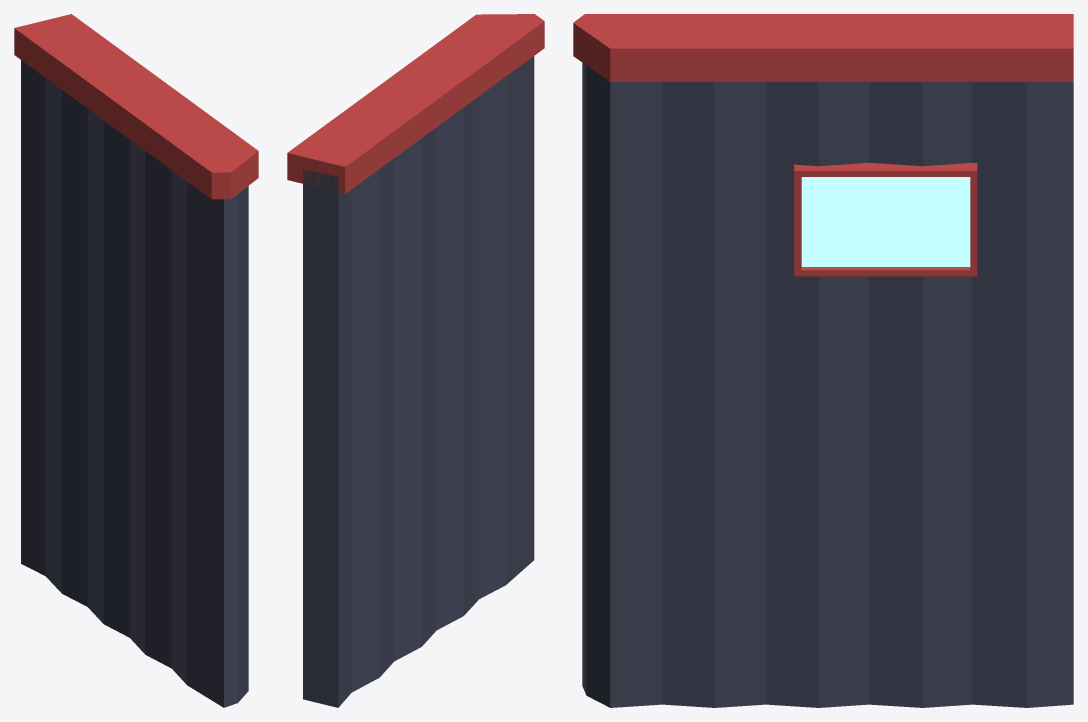
Rendered from small_wall_corner_left.fbx.
The picture shows the model from 3 angles, left to right: view 1: azimuth 30°, elevation 25°; view 2: azimuth 150°, elevation 25°; view 3: azimuth 270°, elevation 25°; orthographic projection. The views are drawn at different scales.
Parts seen in each view (by area): view 1: WarehouseInnerWall.001; view 2: WarehouseInnerWall.001; view 3: WarehouseInnerWall.001.
Boxes of the visible parts, left/top/right/bottom form: WarehouseInnerWall.001: left=14, top=14, right=258, bottom=707; WarehouseInnerWall.001: left=287, top=14, right=544, bottom=707; WarehouseInnerWall.001: left=573, top=14, right=1073, bottom=707.
Size of the model in its own units: 22.36 by 200 by 136.
